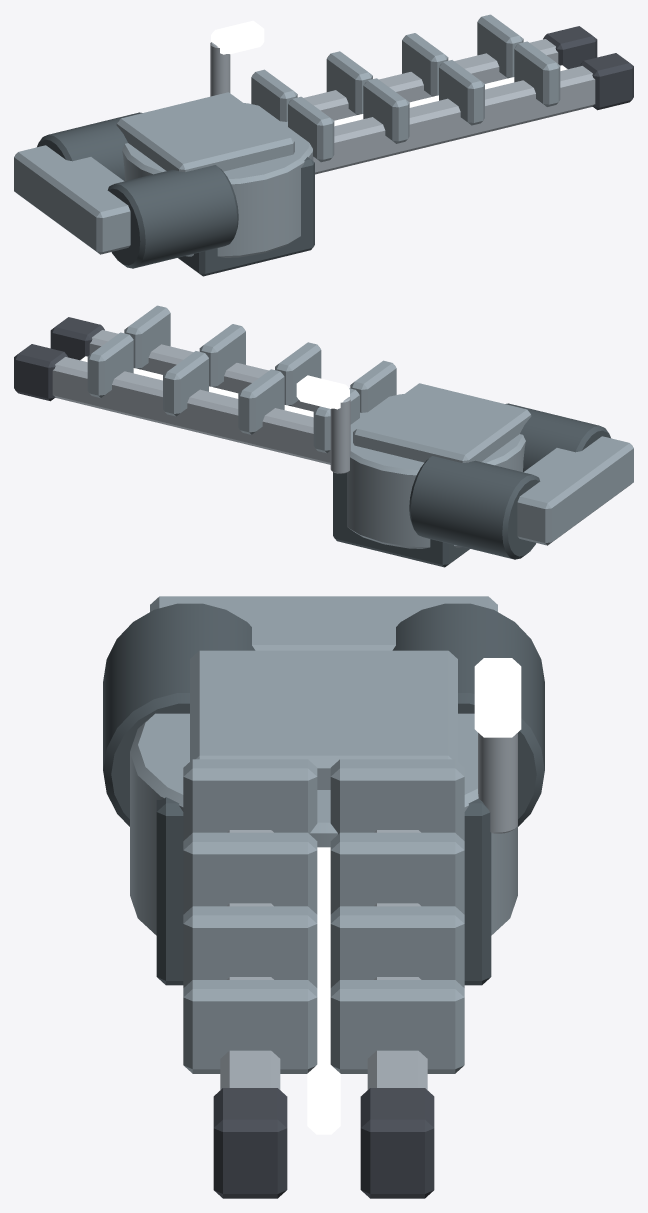
The model's file is rail_turret_l3.glb.
The picture shows the model from 3 angles, top to bottom: view 1: azimuth 30°, elevation 25°; view 2: azimuth 150°, elevation 25°; view 3: azimuth 270°, elevation 25°; orthographic projection. The views are drawn at different scales.
Visible parts, largest first — view 1: Cylinder.001, Cube.006, Cube.001, Cube.007, Cylinder, Cube.003, Cube, Cylinder.003, Cube.002, Cube.010, Cube.012, Cube.011 (+9 smaller); view 2: Cylinder.003, Cube.006, Cube.003, Cube.007, Cylinder, Cylinder.001, Cube, Cube.001, Cube.004, Cube.014, Cube.016, Cube.015 (+9 smaller); view 3: Cube.006, Cylinder.001, Cylinder, Cube.012, Cube.016, Cylinder.003, Cube.007, Cube, Cube.010, Cube.014, Cube.011, Cube.015 (+9 smaller).
Boxes of the visible parts, x1=… form: Cylinder.001: x1=107, y1=165, x2=238, y2=268; Cube.006: x1=116, y1=92, x2=294, y2=172; Cube.001: x1=313, y1=66, x2=595, y2=174; Cube.007: x1=14, y1=145, x2=130, y2=254; Cylinder: x1=122, y1=103, x2=313, y2=257; Cube.003: x1=304, y1=39, x2=558, y2=120; Cube: x1=178, y1=157, x2=314, y2=276; Cylinder.003: x1=37, y1=112, x2=142, y2=181; Cube.002: x1=580, y1=53, x2=633, y2=110; Cube.010: x1=363, y1=78, x2=409, y2=143; Cube.012: x1=514, y1=41, x2=560, y2=106; Cube.011: x1=439, y1=60, x2=484, y2=125; Cylinder.003: x1=409, y1=456, x2=540, y2=559; Cube.006: x1=353, y1=383, x2=531, y2=463; Cube.003: x1=52, y1=357, x2=330, y2=464; Cube.007: x1=517, y1=436, x2=633, y2=545; Cylinder: x1=347, y1=394, x2=525, y2=548; Cylinder.001: x1=505, y1=403, x2=610, y2=472; Cube: x1=333, y1=472, x2=469, y2=567; Cube.001: x1=89, y1=330, x2=320, y2=411; Cube.004: x1=14, y1=344, x2=67, y2=401; Cube.014: x1=238, y1=369, x2=284, y2=434; Cube.016: x1=87, y1=332, x2=133, y2=397; Cube.015: x1=163, y1=351, x2=208, y2=416; Cube.006: x1=190, y1=650, x2=457, y2=789; Cylinder.001: x1=103, y1=603, x2=255, y2=826; Cylinder: x1=130, y1=713, x2=517, y2=935; Cube.012: x1=183, y1=980, x2=317, y2=1073; Cube.016: x1=330, y1=980, x2=464, y2=1073; Cylinder.003: x1=392, y1=603, x2=544, y2=826; Cube.007: x1=150, y1=596, x2=497, y2=650; Cube: x1=156, y1=797, x2=491, y2=985; Cube.010: x1=183, y1=832, x2=317, y2=914; Cube.014: x1=330, y1=832, x2=464, y2=914; Cube.011: x1=183, y1=906, x2=317, y2=987; Cube.015: x1=330, y1=906, x2=464, y2=987.
Bounding box in the file's own units: 1.91 × 0.525 × 0.66.
